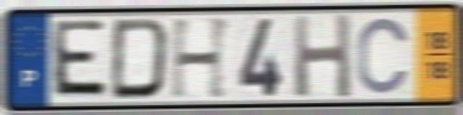4: (236, 14, 287, 101)
C: (355, 15, 413, 98)
D: (108, 15, 173, 103)
E: (48, 17, 111, 102)
H: (168, 14, 235, 102), (291, 11, 355, 102)
